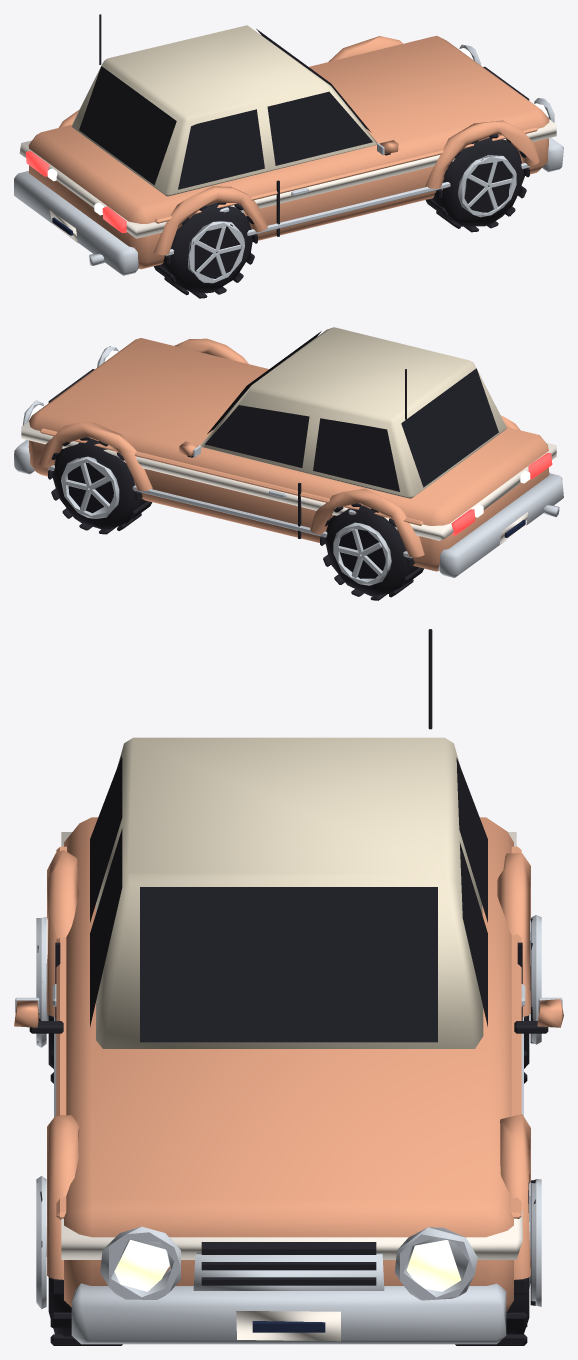
File: car.glb
The picture shows the model from 3 angles, top to bottom: view 1: azimuth 30°, elevation 25°; view 2: azimuth 150°, elevation 25°; view 3: azimuth 270°, elevation 25°; orthographic projection. The views are drawn at different scales.
Visible parts, largest first — view 1: car; view 2: car; view 3: car.
Part boxes in pixels (left/top/right/bottom): car: left=14, top=14, right=563, bottom=298; car: left=14, top=327, right=563, bottom=600; car: left=14, top=629, right=563, bottom=1345.
Bounding box in the file's own units: 4.34 × 1.94 × 2.27.
Materials: 1 (1 with a texture image).
